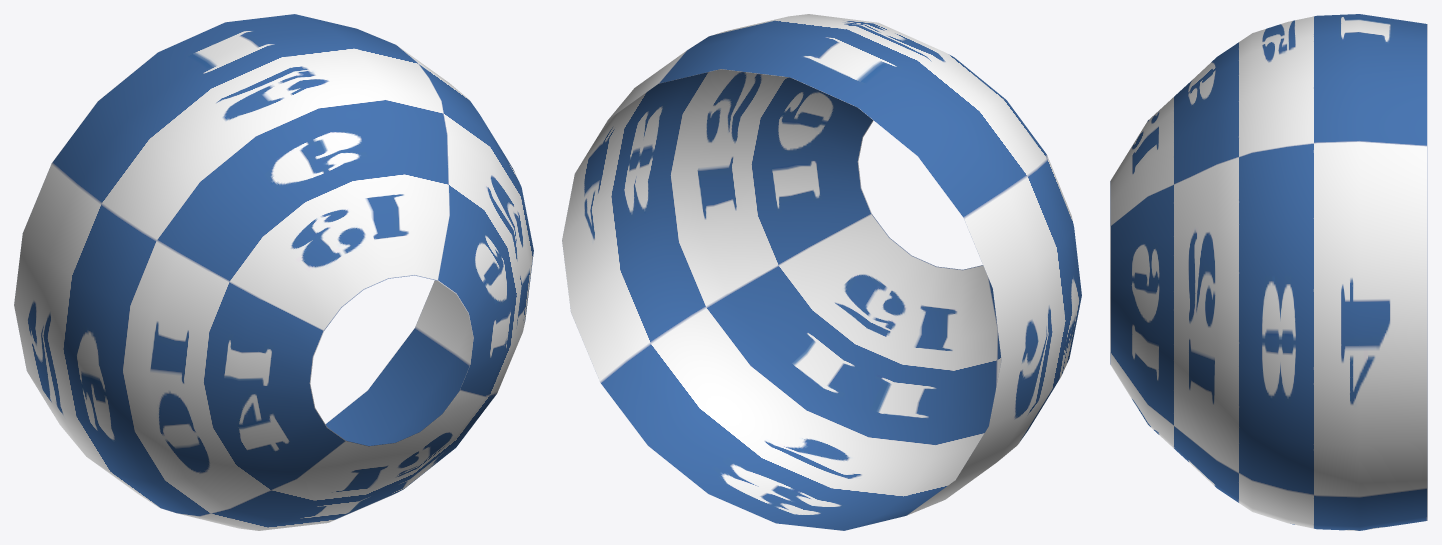
Rendered from Ring_ShockWave1.fbx.
3 views of the same model, side by side, from view 1: azimuth 30°, elevation 25°; view 2: azimuth 150°, elevation 25°; view 3: azimuth 270°, elevation 25° (orthographic).
Visible parts, largest first — view 1: SM_e_Skl_Fi_5Enk_TigerFireAround001; view 2: SM_e_Skl_Fi_5Enk_TigerFireAround001; view 3: SM_e_Skl_Fi_5Enk_TigerFireAround001.
Part boxes in pixels (x1,y1,x2,y2): SM_e_Skl_Fi_5Enk_TigerFireAround001: (14,14,533,530); SM_e_Skl_Fi_5Enk_TigerFireAround001: (562,14,1081,530); SM_e_Skl_Fi_5Enk_TigerFireAround001: (1110,14,1427,530).
Bounding box in the file's own units: 156 × 152 × 93.57.
